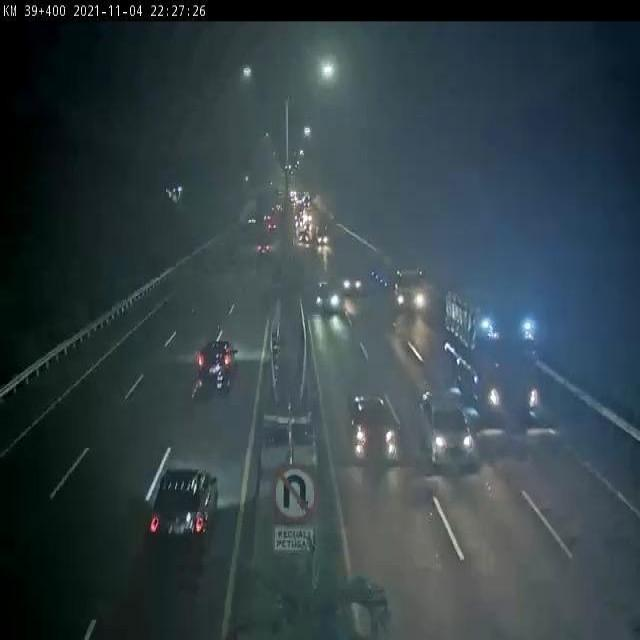car: (151, 469, 221, 556), (417, 388, 473, 467), (347, 393, 399, 464), (198, 342, 239, 389), (313, 282, 340, 310), (341, 272, 359, 293)
truck-xl-: (442, 289, 538, 420), (372, 249, 431, 312)
